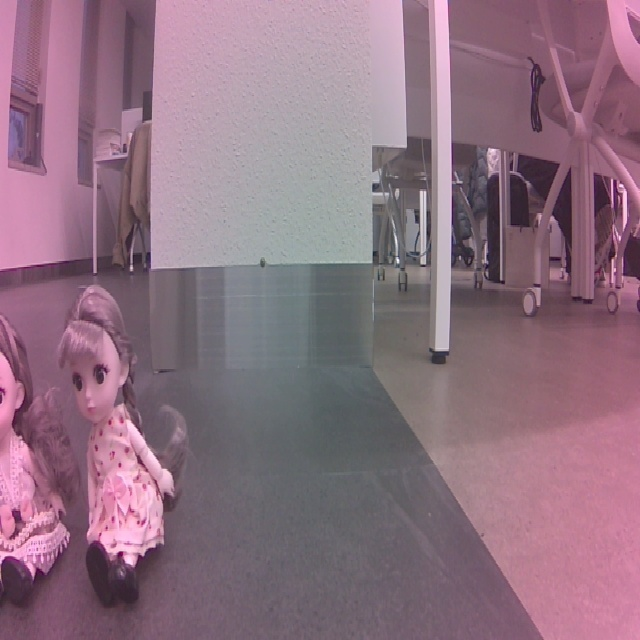장애물: (53, 276, 202, 614)
